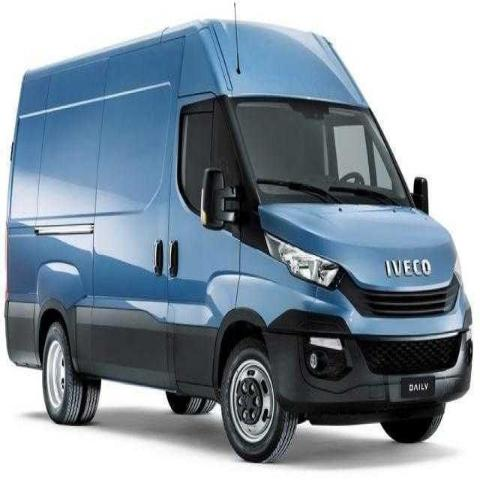van: (2, 9, 474, 463)
